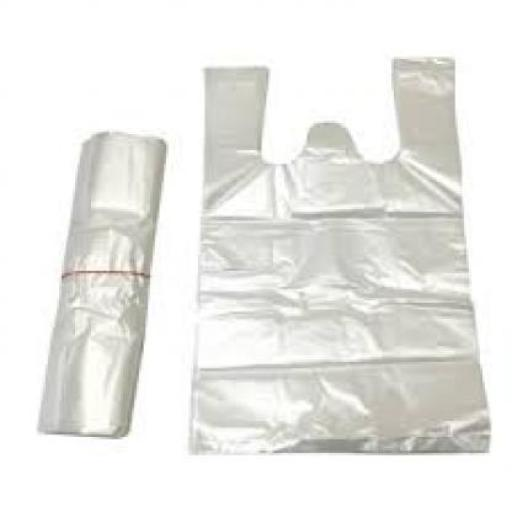plastic: (189, 54, 489, 451), (36, 130, 164, 435)
